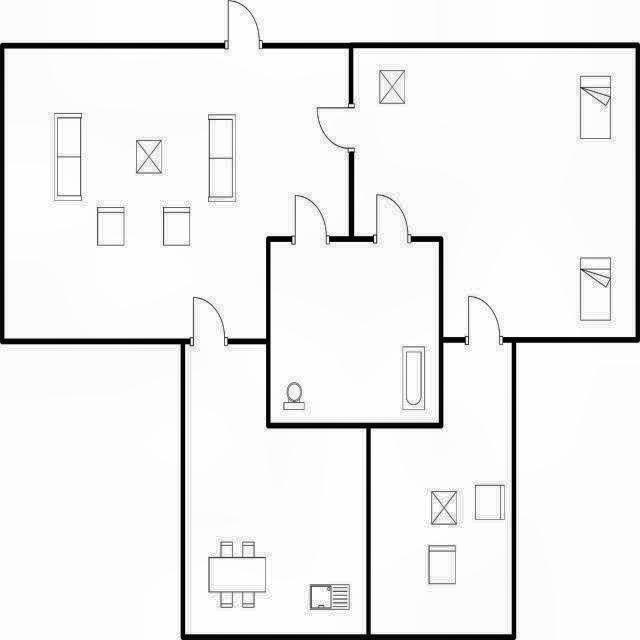room: (4, 48, 349, 338), (354, 47, 636, 337), (185, 344, 366, 634), (369, 343, 512, 634), (270, 242, 439, 422)
